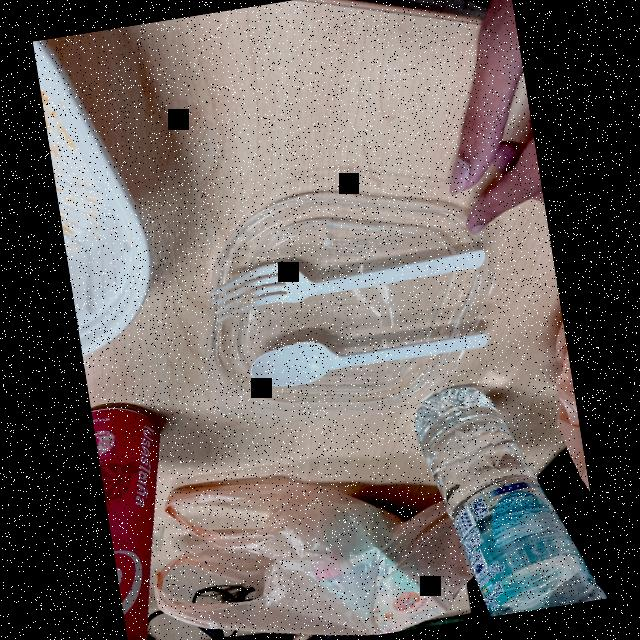plastic_spoon: (199, 226, 494, 326), (236, 307, 501, 399)
